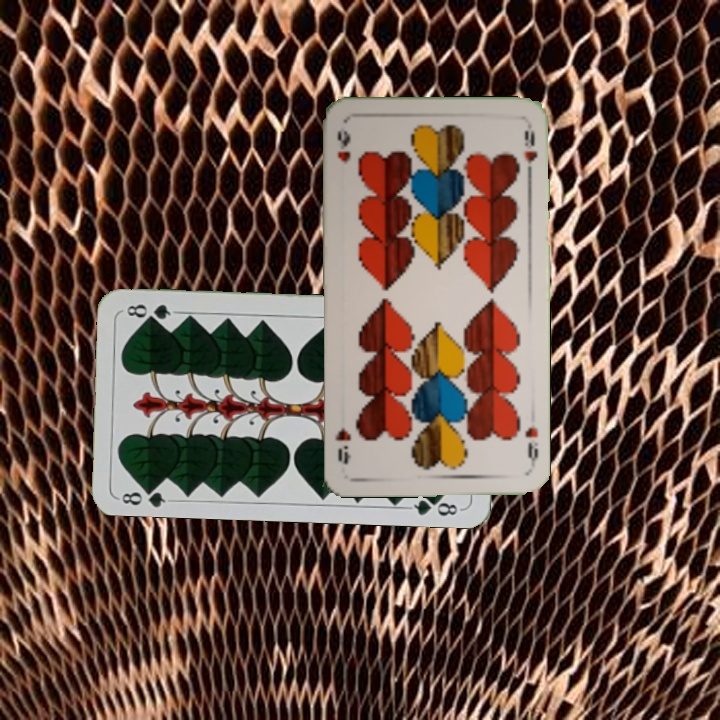G8: (115, 481, 174, 509)
H9: (521, 423, 541, 469), (333, 127, 353, 166)
